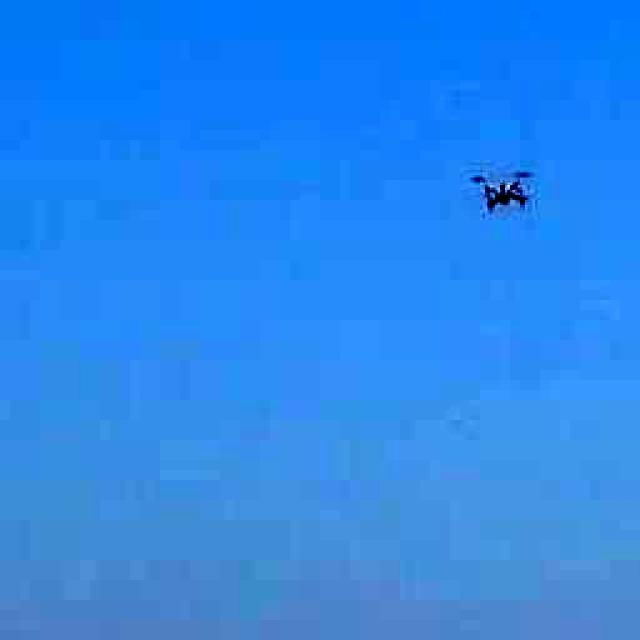bird: (445, 128, 552, 242)
